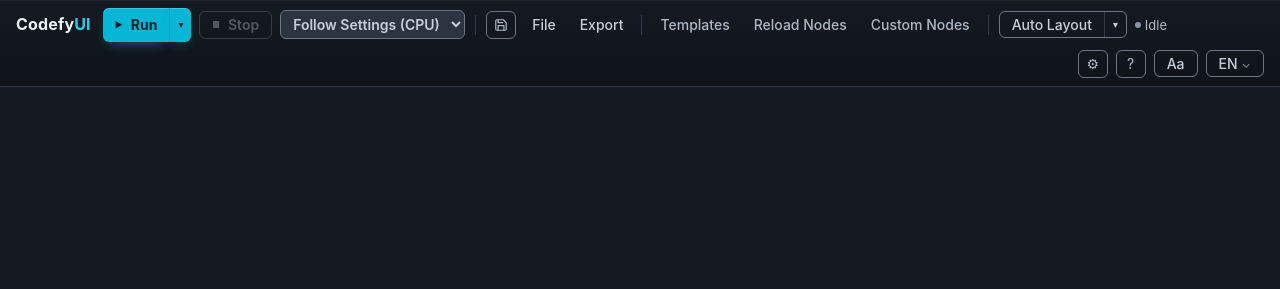
Toolbar › opening a second menu closes the first (toggleMenu prev===name false branch)
Click the button "File" at (544, 25), box top-left (524, 11), bottom-right (564, 39)
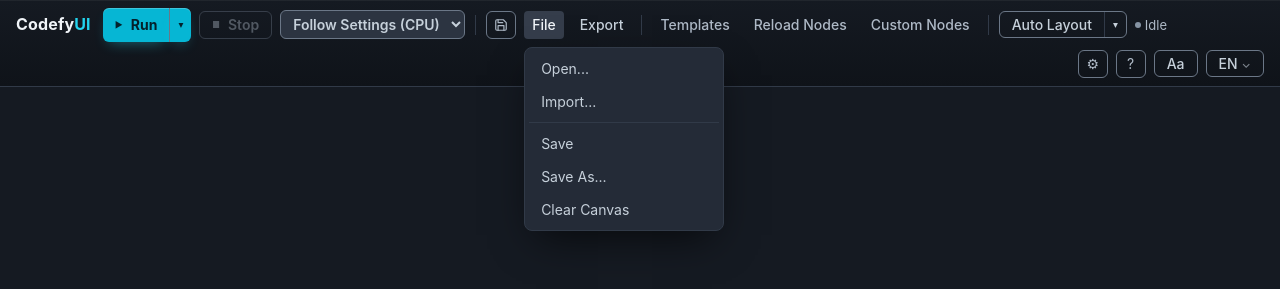
Result: the button "Save" is shown at top-left (529, 126), bottom-right (719, 160)
Click the button "Export" at (602, 25), box top-left (572, 11), bottom-right (632, 39)
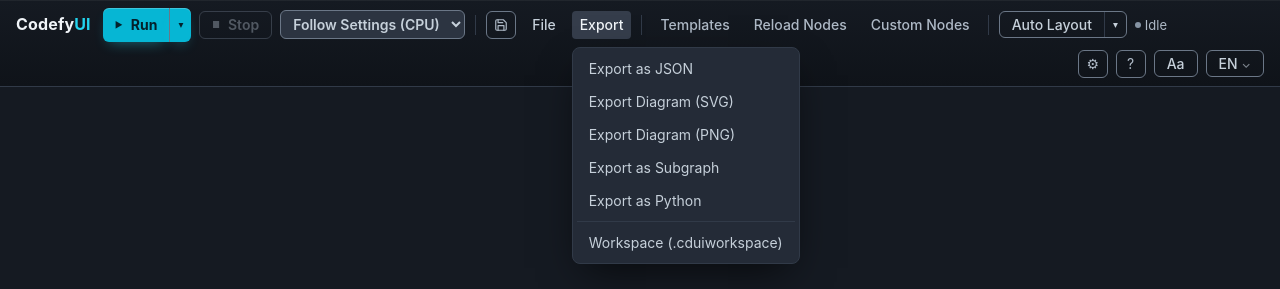
Result: the button "Save" is gone
Result: the button "Export as JSON" is shown at top-left (577, 52), bottom-right (795, 84)
